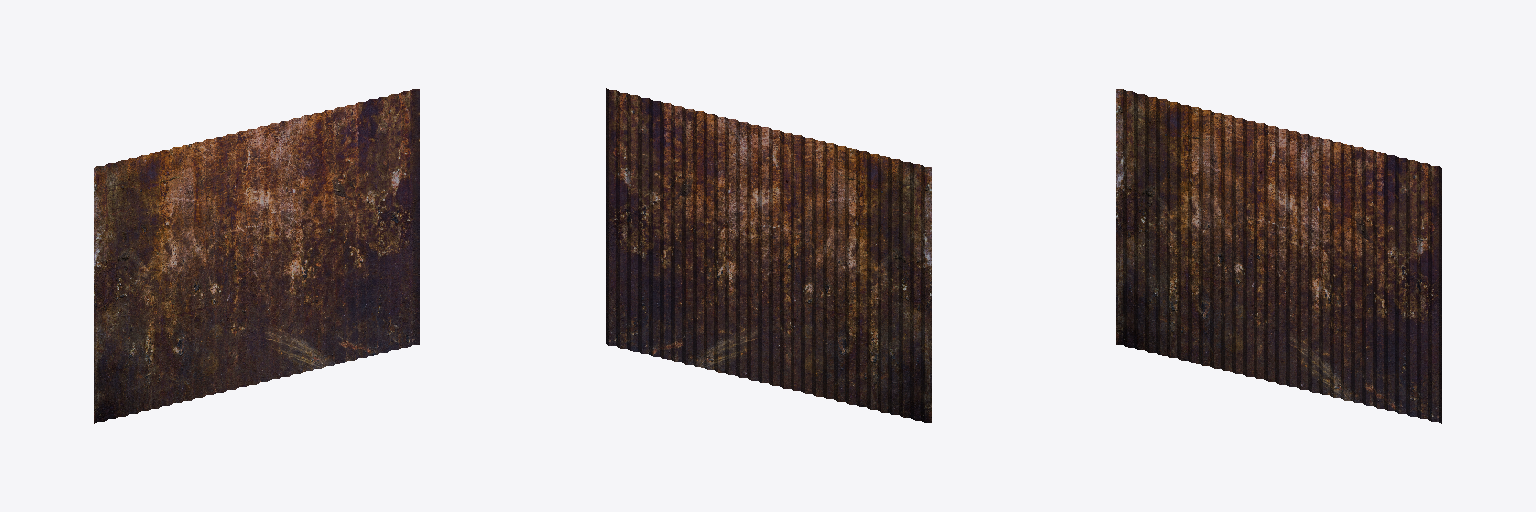
3 renders of one model, left to right at view 1: azimuth 30°, elevation 25°; view 2: azimuth 150°, elevation 25°; view 3: azimuth 330°, elevation 25°, orthographic.
Parts seen in each view (by area): view 1: Plane; view 2: Plane; view 3: Plane.
Part boxes in pixels (bbox=[...]): Plane: bbox=[94, 89, 419, 423]; Plane: bbox=[606, 88, 931, 422]; Plane: bbox=[1116, 89, 1441, 423].
Size of the model in its own units: 3 by 2.25 by 0.025.
1 materials, 1 textured.